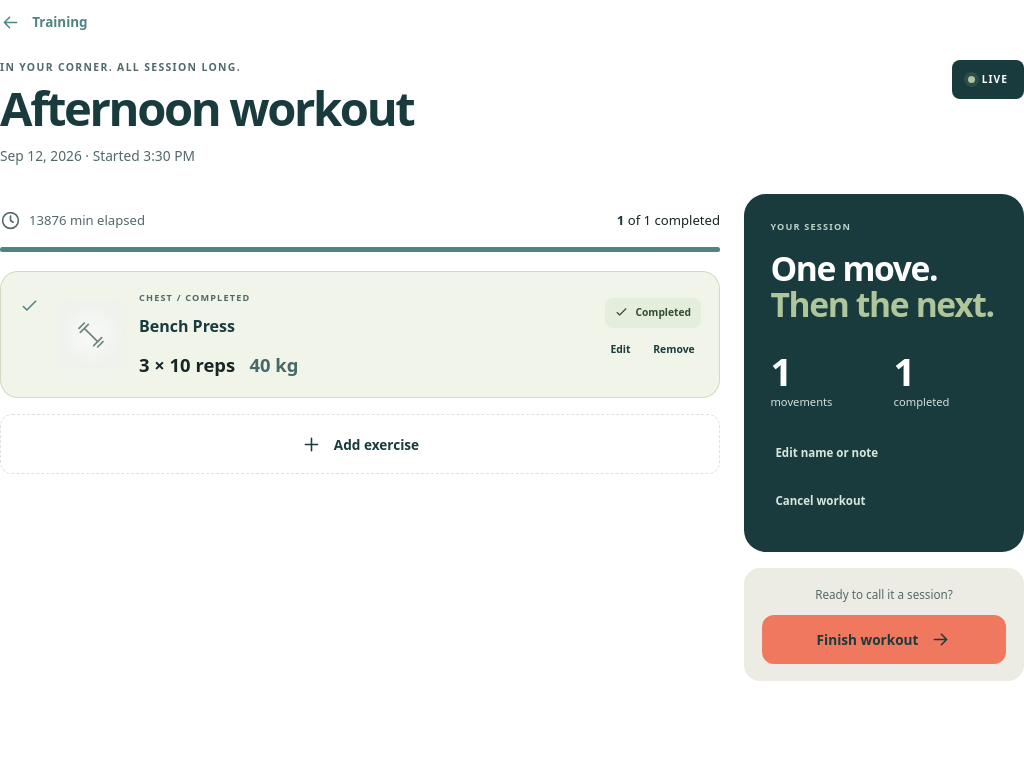
Scenario: Training lifecycle › retains the open session when the server rejects completion
Click the button "Finish workout".
click(884, 640)  # box x1=762 y1=615 x2=1006 y2=664
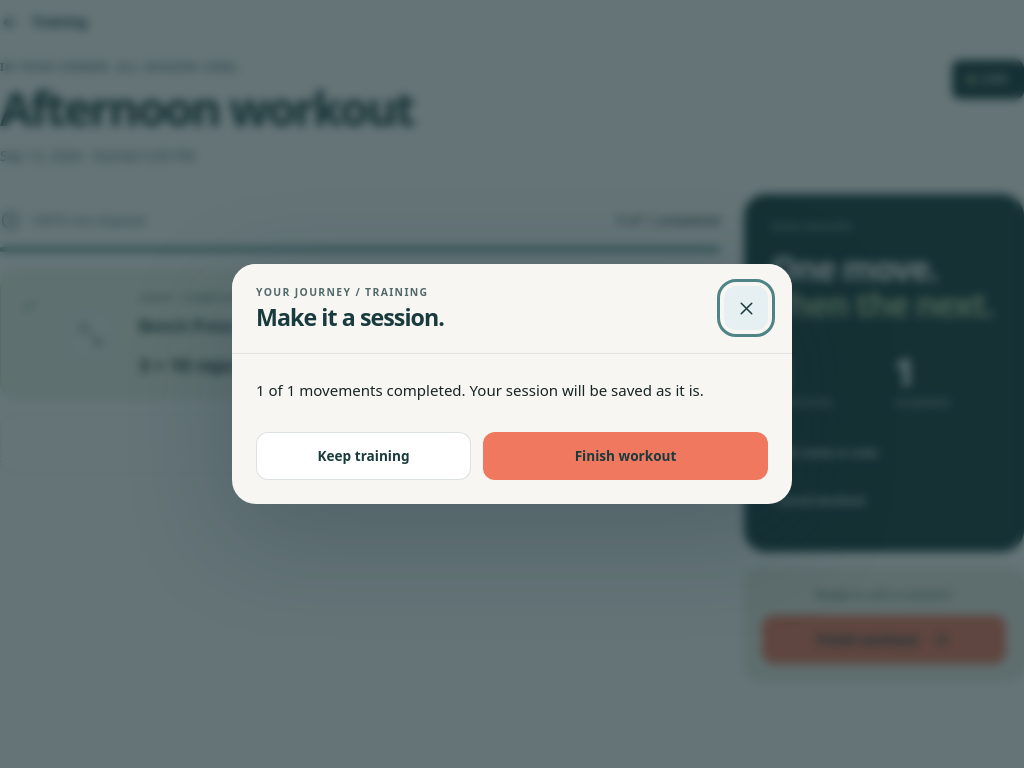
Click the button "Finish workout".
click(626, 456)  # box x1=483 y1=432 x2=768 y2=480
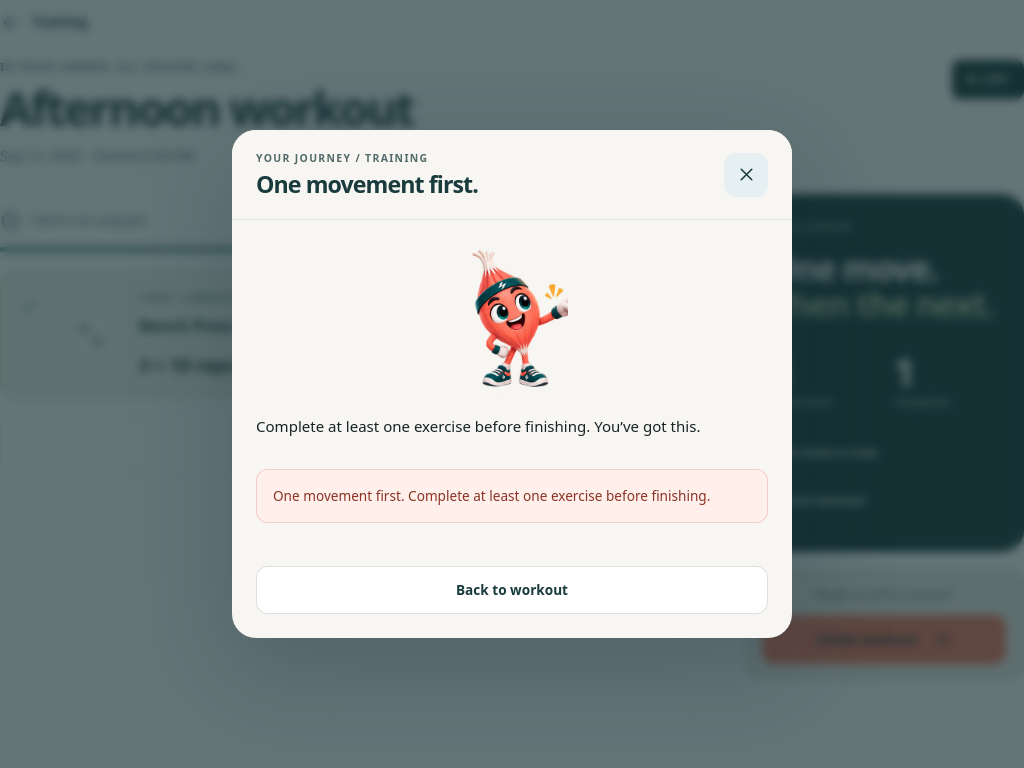
Expected: the heading "One movement first." is shown, x1=256 y1=171 x2=478 y2=199
